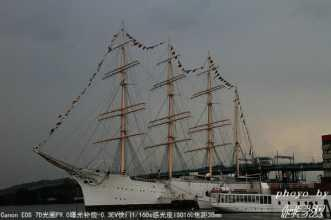fanchuan: (29, 20, 260, 210)
otherboat: (196, 185, 331, 214)
